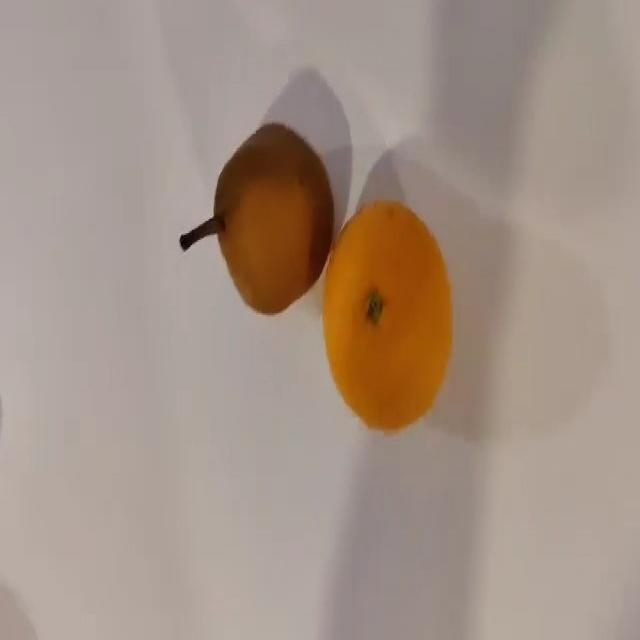Orange: (322, 198, 453, 432)
